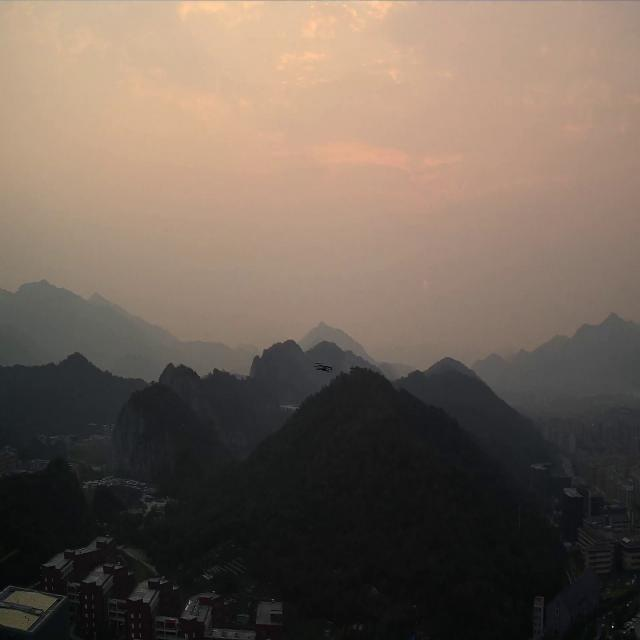drone: (313, 362, 333, 373)
